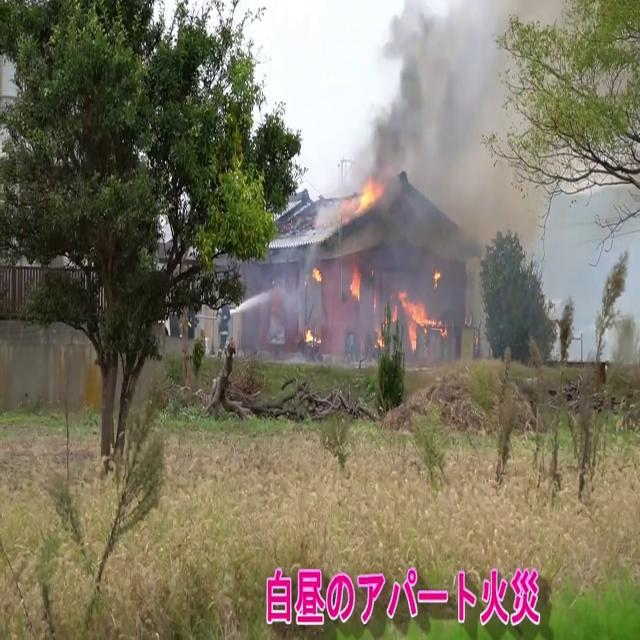Fire: (392, 280, 448, 346), (352, 170, 379, 218), (349, 260, 366, 304)
Smoke: (366, 0, 563, 256)
